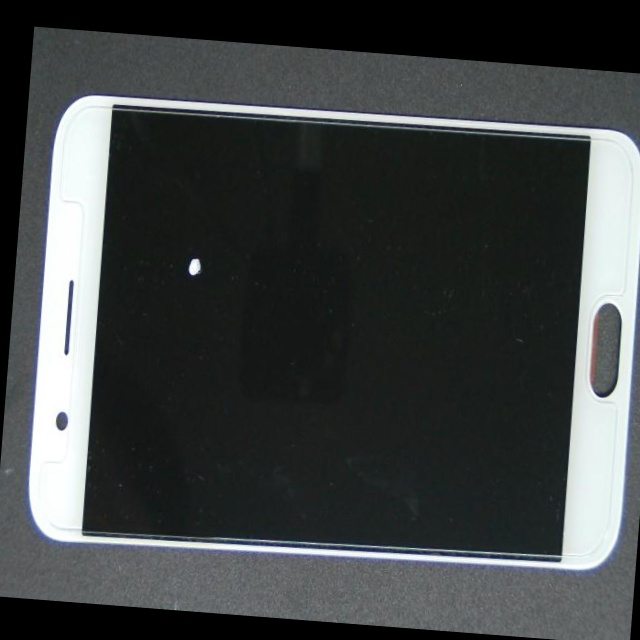stain: (124, 137, 295, 361)
